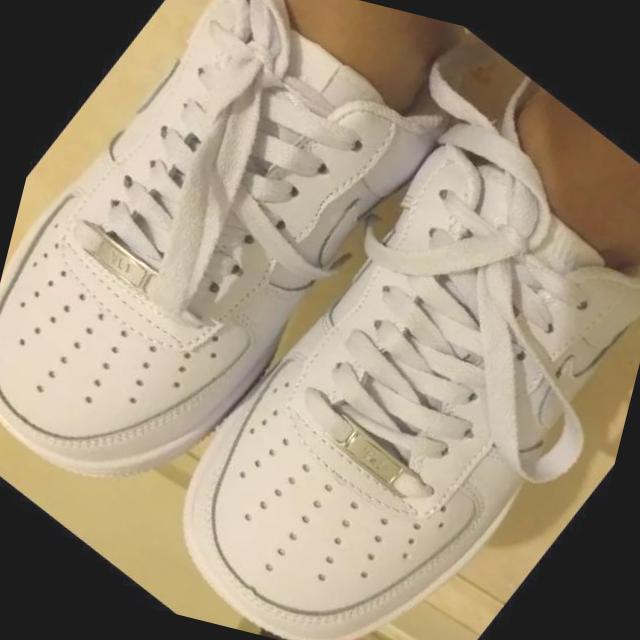nike_fake_airforce: (110, 1, 640, 640), (0, 0, 509, 598)
